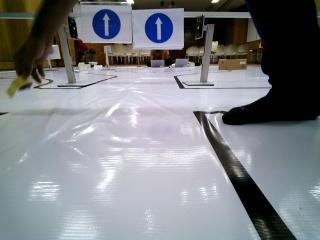straight: (80, 3, 134, 46), (134, 11, 188, 47)
